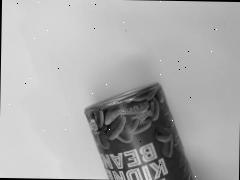metal: (55, 67, 213, 180)
